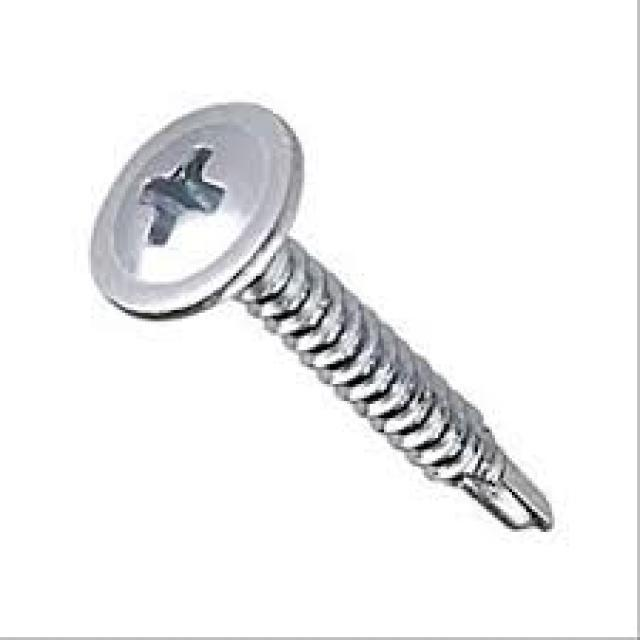Screw: (88, 102, 552, 535)
